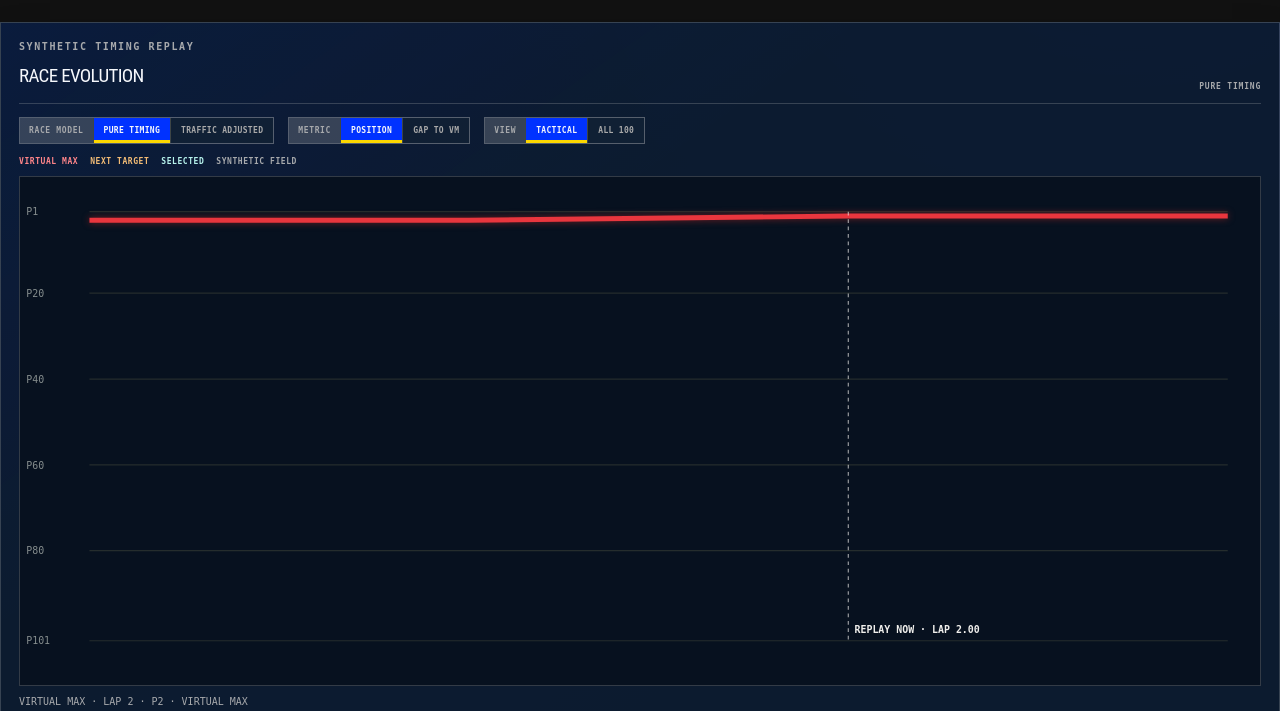
Test: RaceEvolutionChart › uses backend traffic rank trajectory and exposes gap semantics and field progression
This screenshot has width=1280, height=711.
Click the button "TRAFFIC ADJUSTED" at (222, 130), box [170,118,273,142]
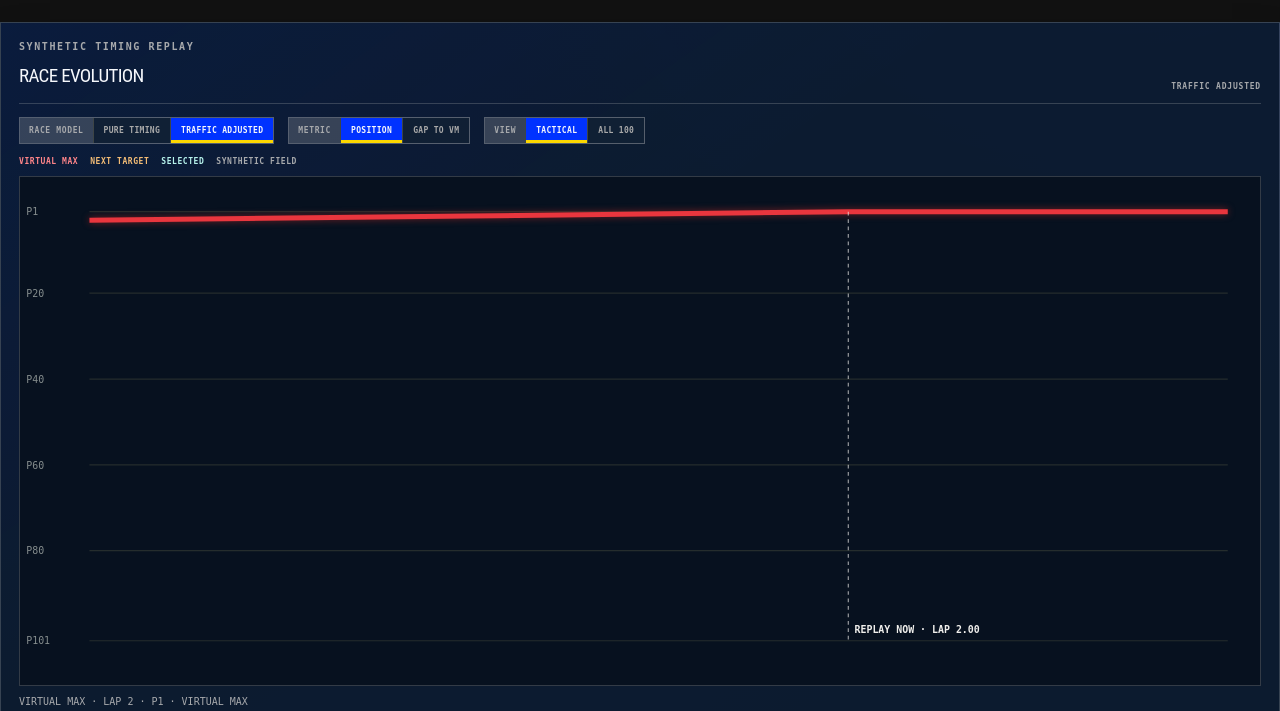
Click the button "GAP TO VM" at (436, 130), box [402,118,469,142]
(page scrolled)
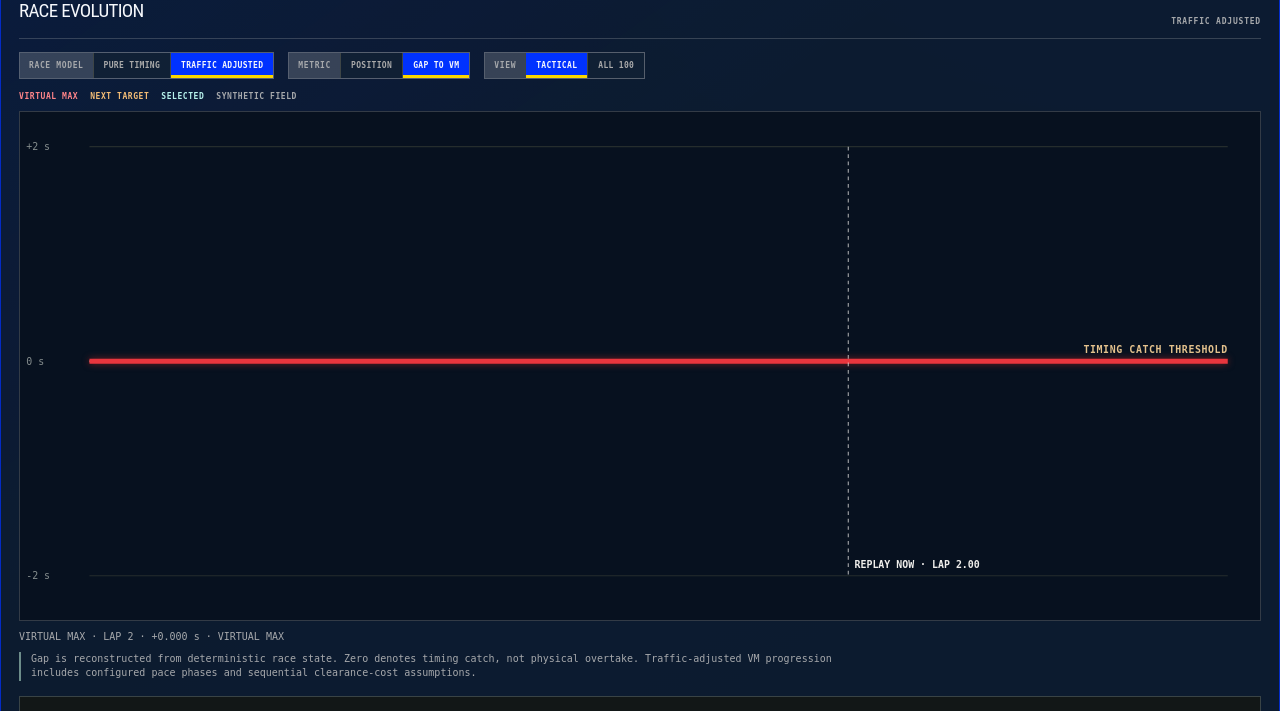
Expected: the text "TIMING CATCH THRESHOLD" is shown, [1083,343,1228,354]
Expected: the text "not physical overtake" is shown, [31,653,639,664]
